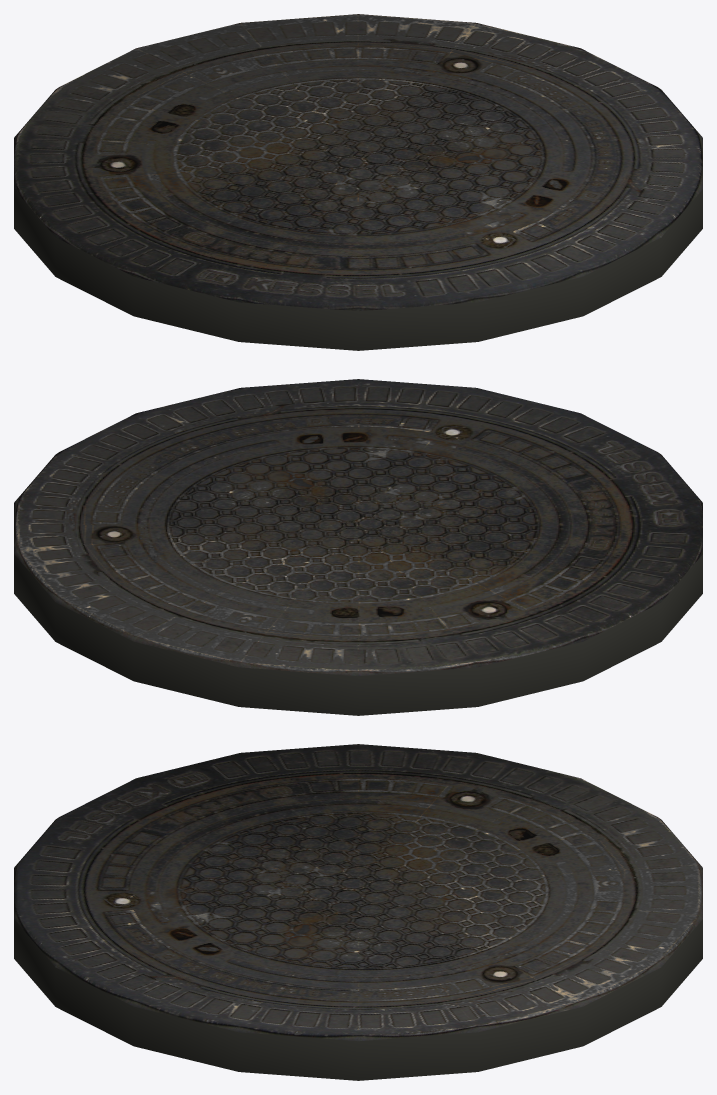
The model's file is manhole.FBX.
3 renders of one model, top to bottom at view 1: azimuth 30°, elevation 25°; view 2: azimuth 150°, elevation 25°; view 3: azimuth 270°, elevation 25°, orthographic.
Parts seen in each view (by area): view 1: manhole; view 2: manhole; view 3: manhole.
Part boxes in pixels (x1,y1,x2,y2): manhole: [14, 14, 702, 350]; manhole: [14, 379, 702, 715]; manhole: [14, 744, 702, 1080].
Size of the model in its own units: 126 by 8.91 by 124.
